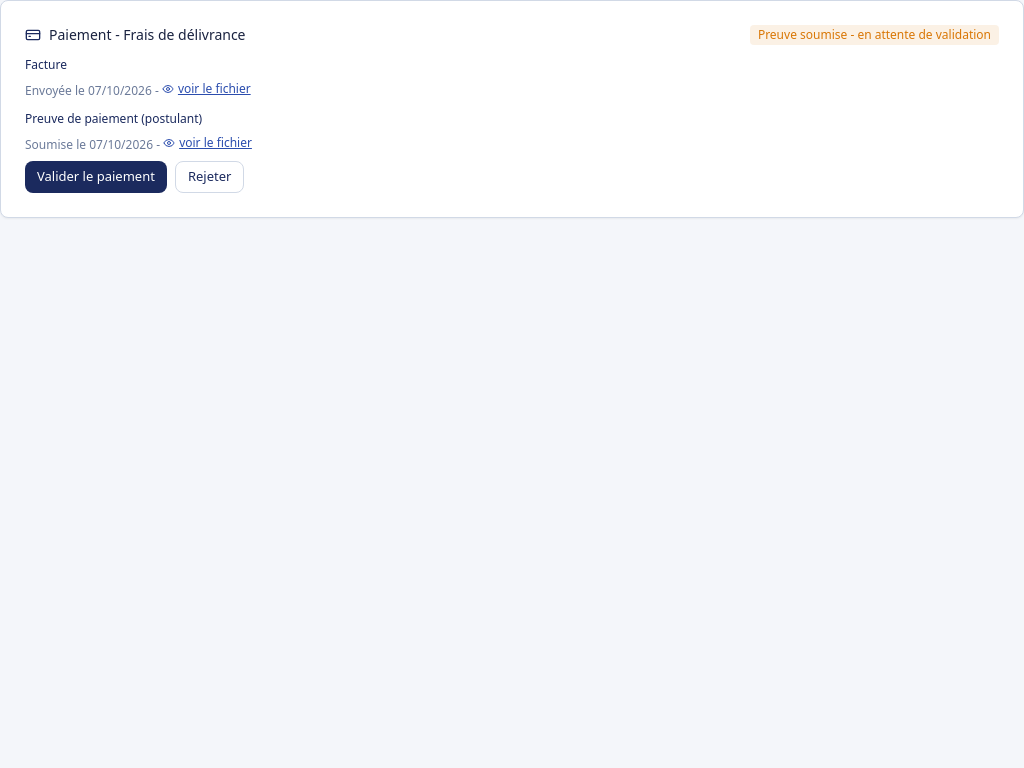
M7 payment card - final rejection of the dossier › on an API refusal, closes the confirmation and keeps the form for another try
The width and height of the screenshot is (1024, 768).
Step 1. Click the button "Rejeter" → (210, 177), box [175, 161, 244, 193]
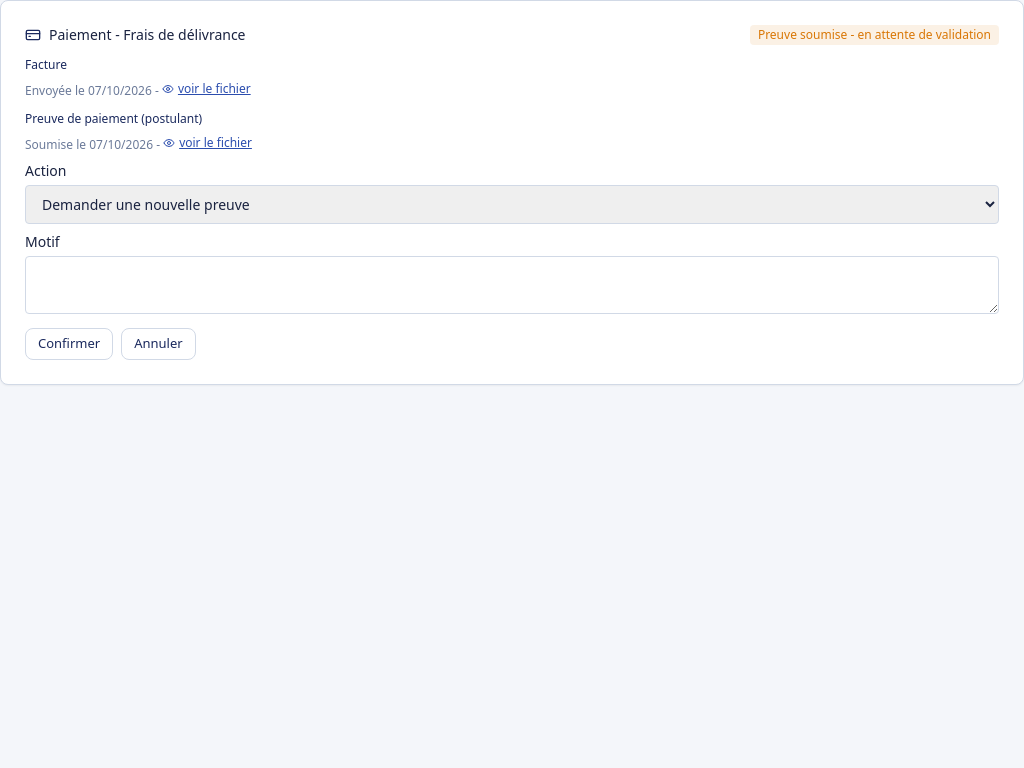
Step 2. Select "Rejeter le dossier (annulation définitive)" in the dropdown labelled "Action" → (512, 204), box [25, 185, 999, 224]
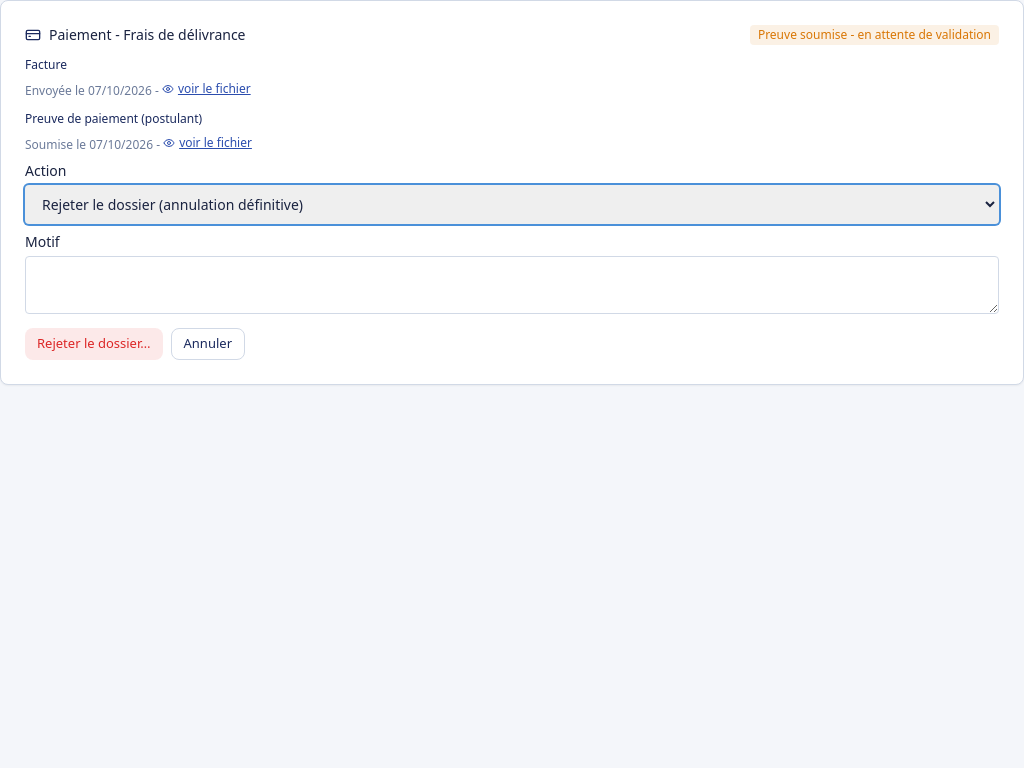
Step 3. Type "Quittance falsifiée : la référence bancaire n'existe pas." into the text box labelled "Motif" → (512, 285), box [25, 256, 999, 314]
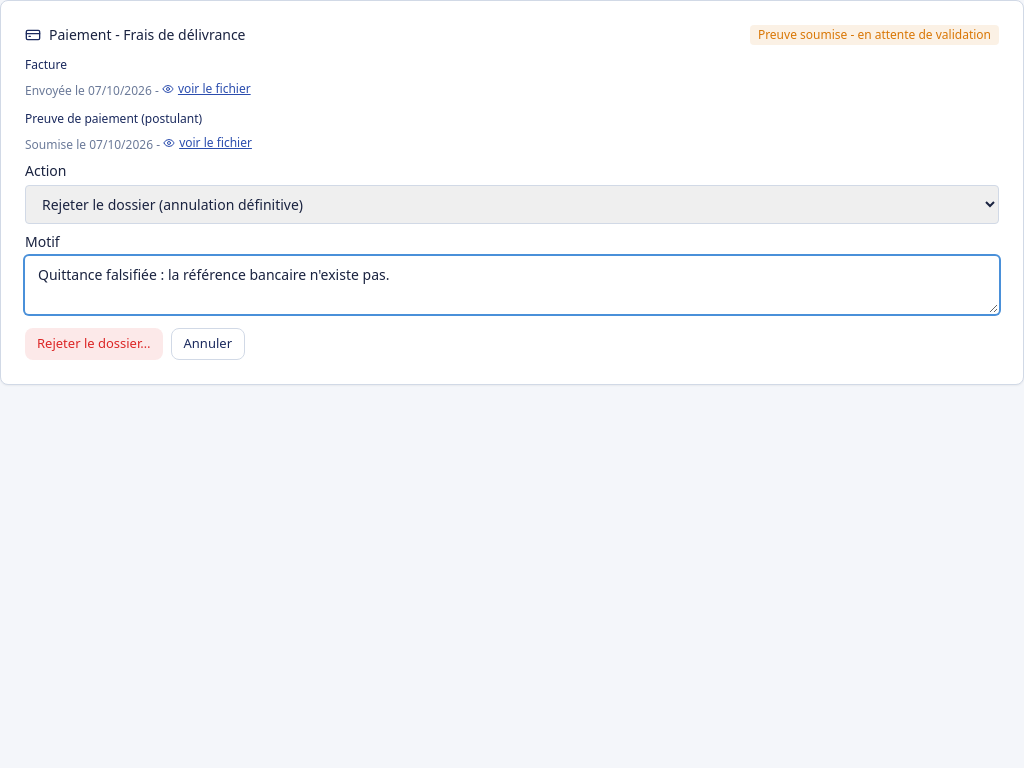
Step 4. Click the button "Rejeter le dossier…" → (94, 344), box [25, 328, 162, 360]
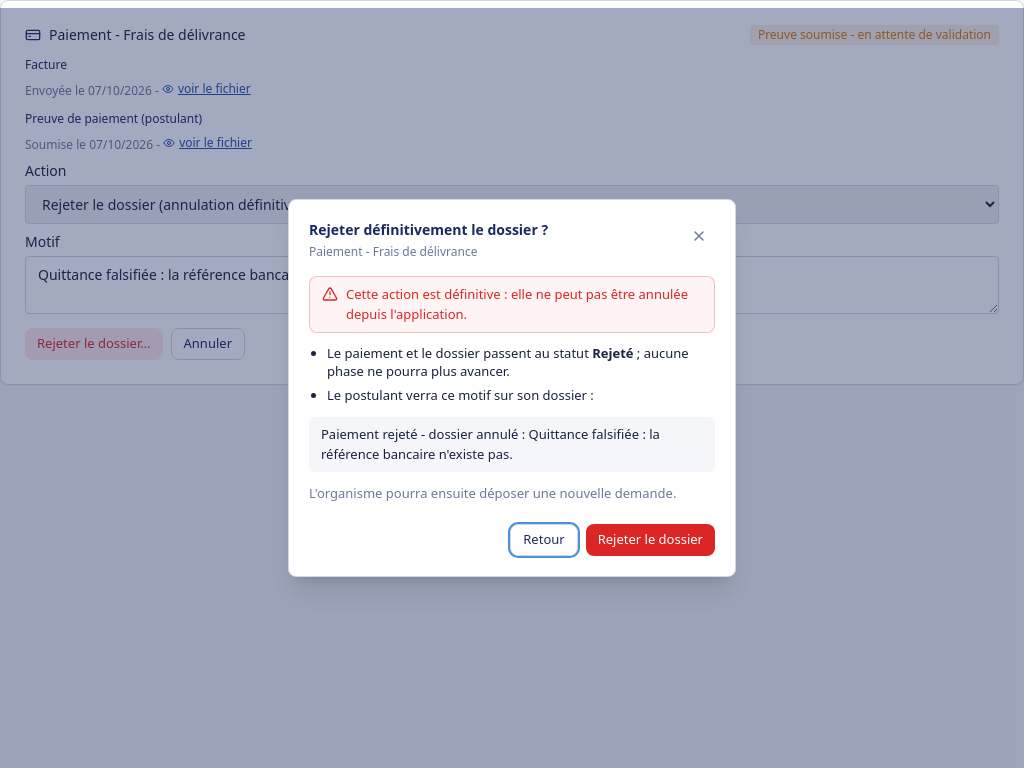
Step 5. Click the button "Rejeter le dossier" → (650, 540), box [586, 524, 715, 556]
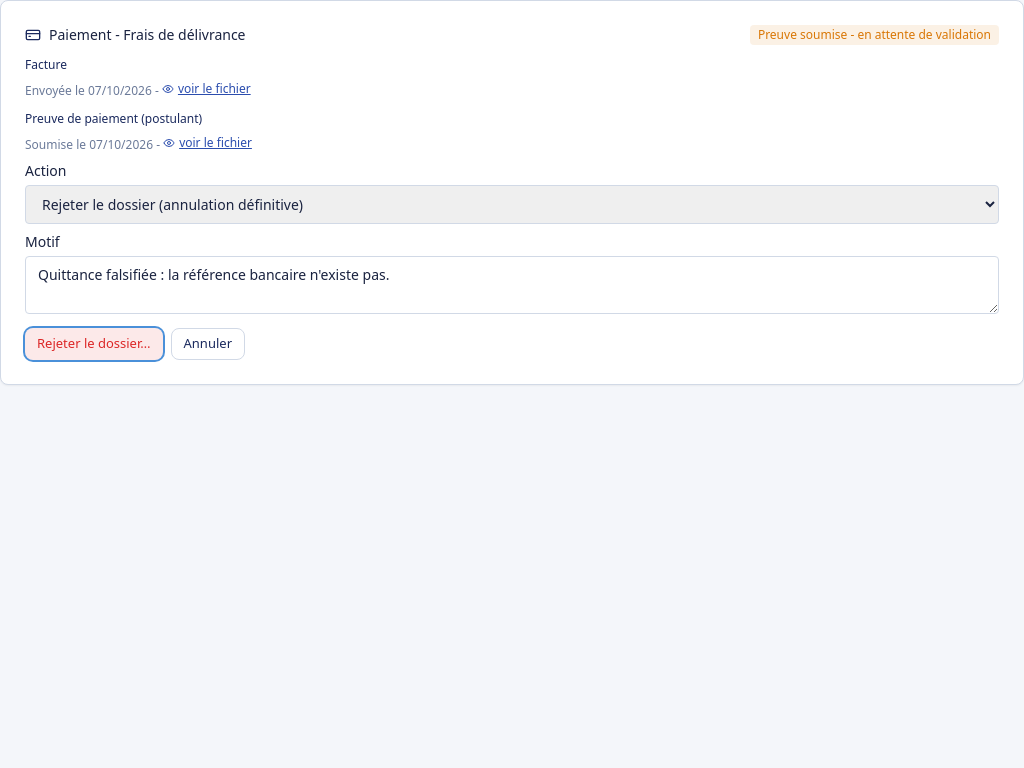
Check: the dialog is gone
